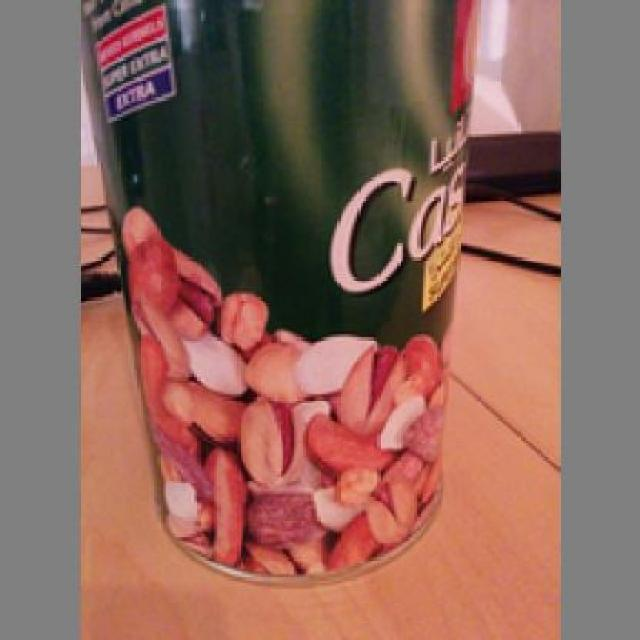Nuts: (77, 0, 474, 583)
